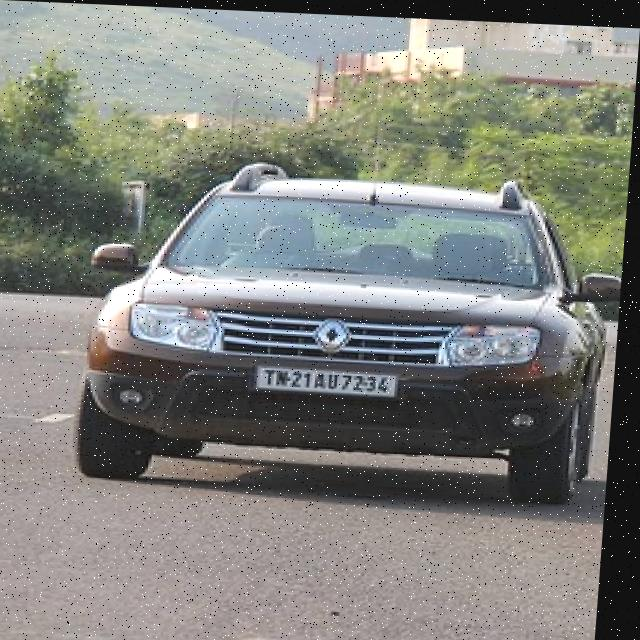plate: (254, 359, 405, 394)
